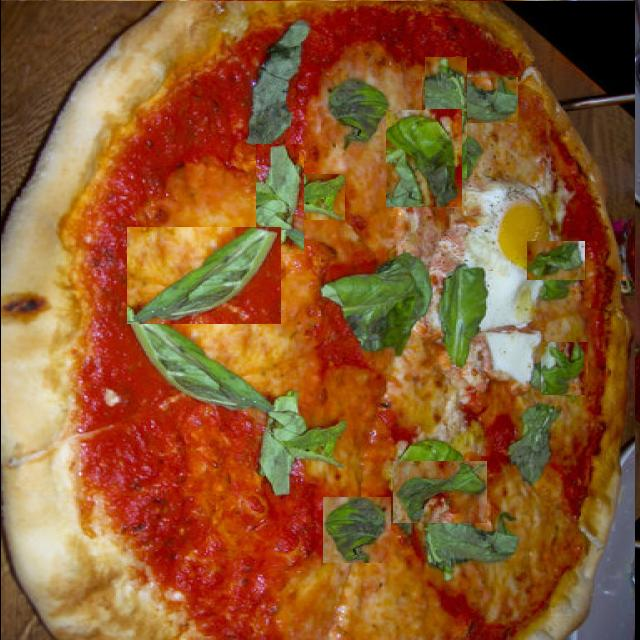basil: (126, 227, 280, 324), (316, 282, 430, 389), (247, 494, 309, 627), (385, 110, 461, 207), (392, 461, 486, 523), (438, 269, 491, 375), (255, 144, 303, 254), (424, 58, 466, 180), (508, 151, 560, 244), (322, 497, 390, 563), (421, 77, 517, 123), (279, 174, 344, 220), (540, 342, 587, 395), (526, 241, 584, 280)
pizza: (0, 1, 634, 640)
